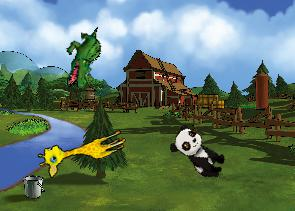crocodile: (64, 27, 102, 88)
giraffe: (34, 118, 129, 180)
panda: (165, 122, 232, 183)
